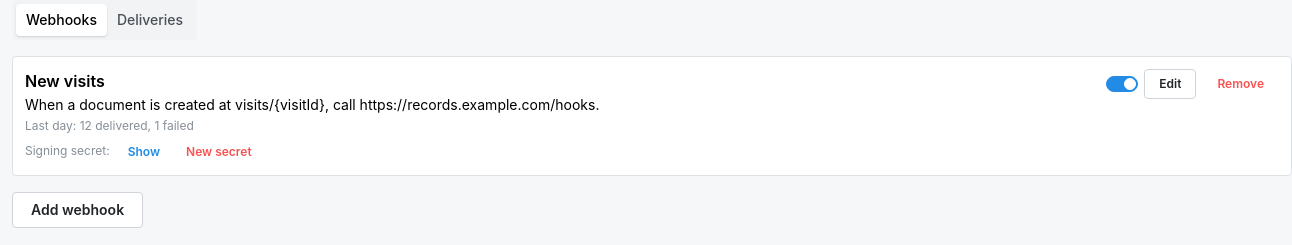
it: hooks read as sentences, with the last day's deliveries and the signing secret
This screenshot has width=1292, height=245.
Check: the text "When a document is created at visits/{visitId}, call https://records.example.com/hooks." is shown, box [25,96,599,116]
Check: the text "Last day: 12 delivered, 1 failed" is shown, box [25,118,194,133]
Click the button "Show" at (144, 152), box [120,141,168,163]
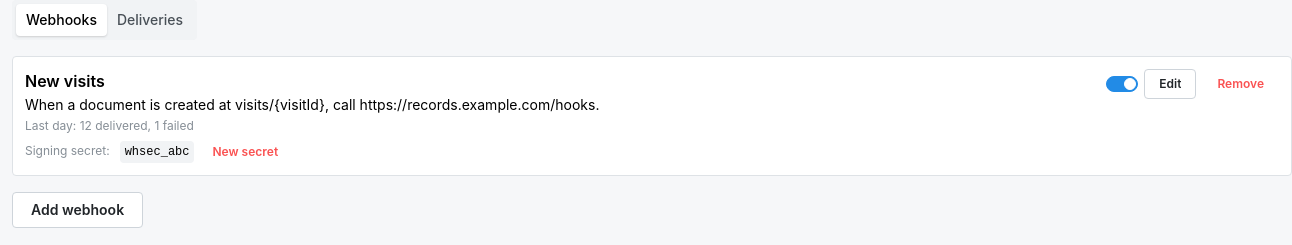
Check: the text with test id "hook-secret" reads "whsec_abc", box [125,145,190,159]
